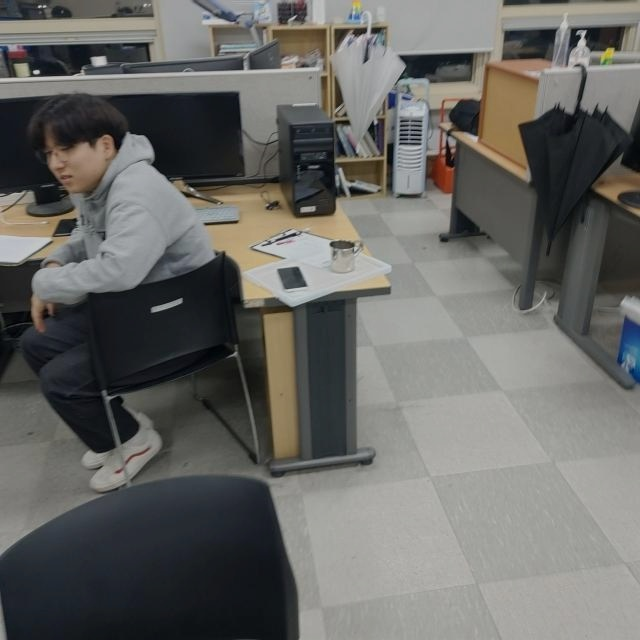cup: (328, 236, 363, 276)
phone: (277, 264, 307, 291)
